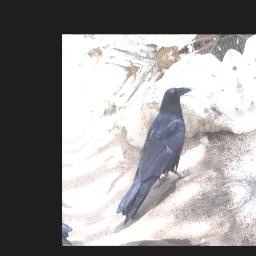Crow: (92, 79, 219, 228)
